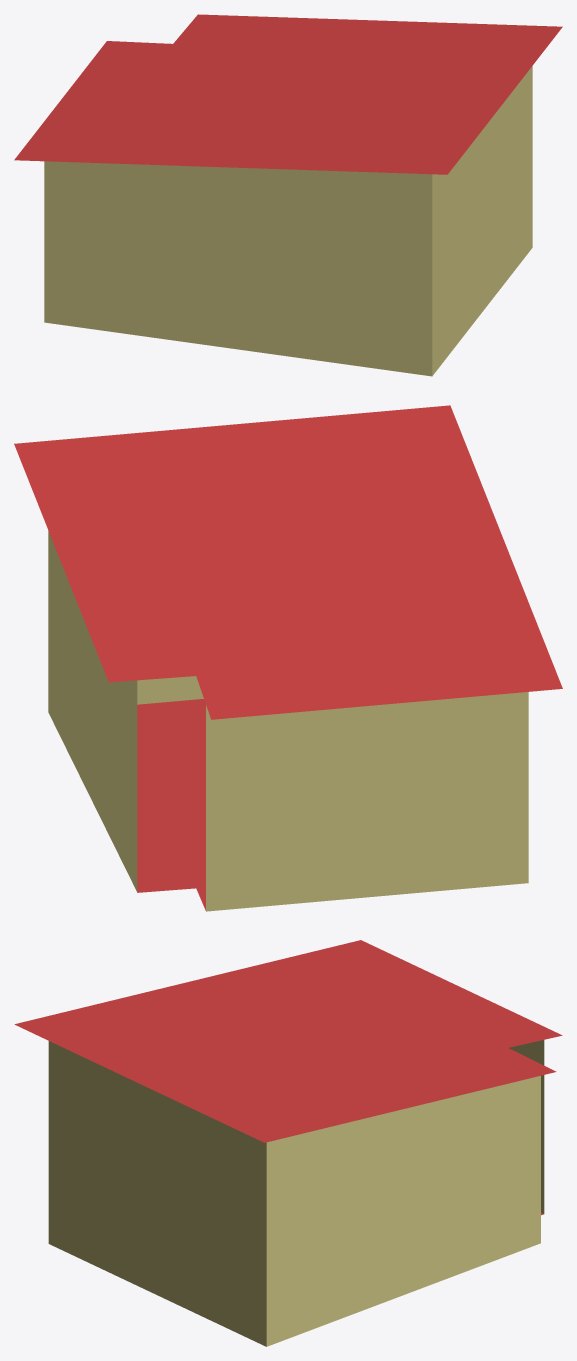
3 renders of one model, top to bottom at view 1: azimuth 30°, elevation 25°; view 2: azimuth 150°, elevation 25°; view 3: azimuth 270°, elevation 25°, orthographic. The views are drawn at different scales.
Bounding box in the file's own units: 18.05 × 16.78 × 7.37.
